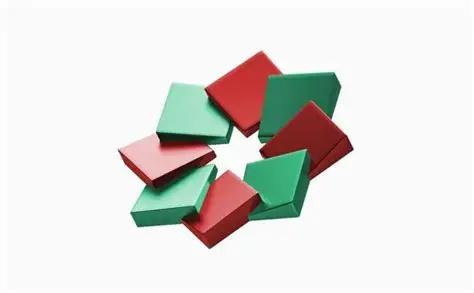Pasha Bank: (115, 46, 355, 250)
